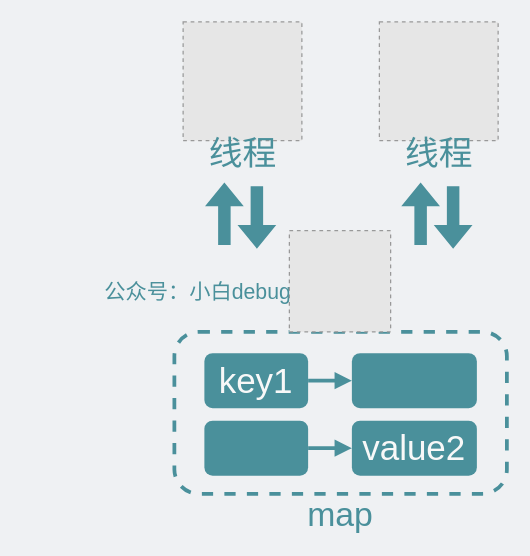
Some shapes in this 530 by 556 pixel diagram are drawn without their labels. Grey dashed boxes stand in for pictures. The shapes that lost their labels are listed below. From the top down, each one's box as (x1, y1, x2, y2) in pixels, then its label:
(351, 352, 476, 408): value1
(204, 420, 308, 475): key2
